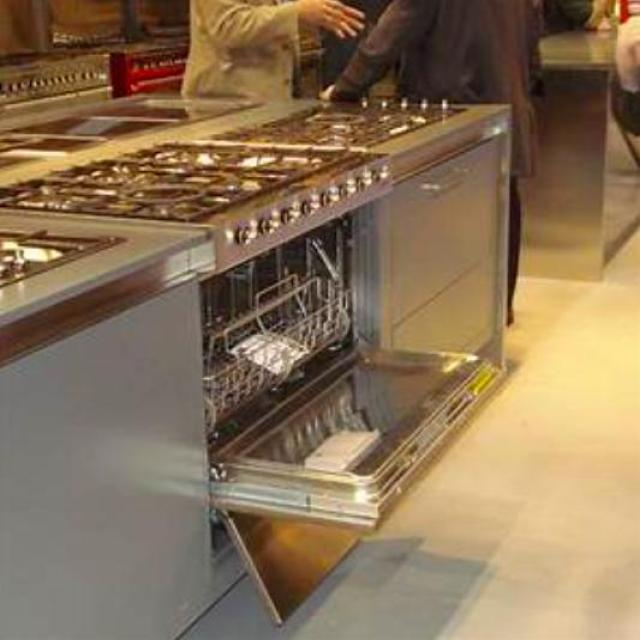dishwasher: (199, 192, 501, 537)
